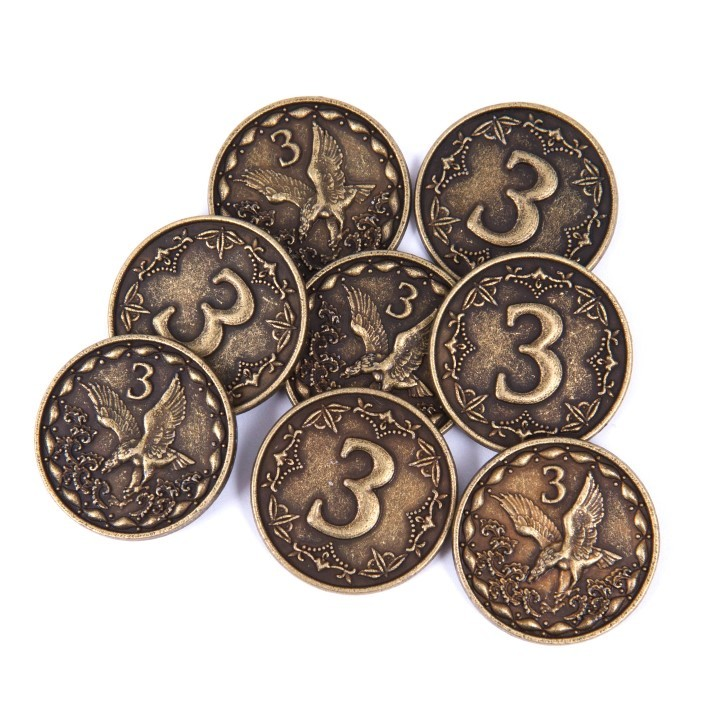coin: (452, 437, 660, 646), (249, 388, 457, 595), (36, 334, 237, 541), (429, 252, 633, 449), (108, 214, 306, 410), (416, 102, 620, 266), (210, 95, 410, 261), (297, 250, 452, 431)
